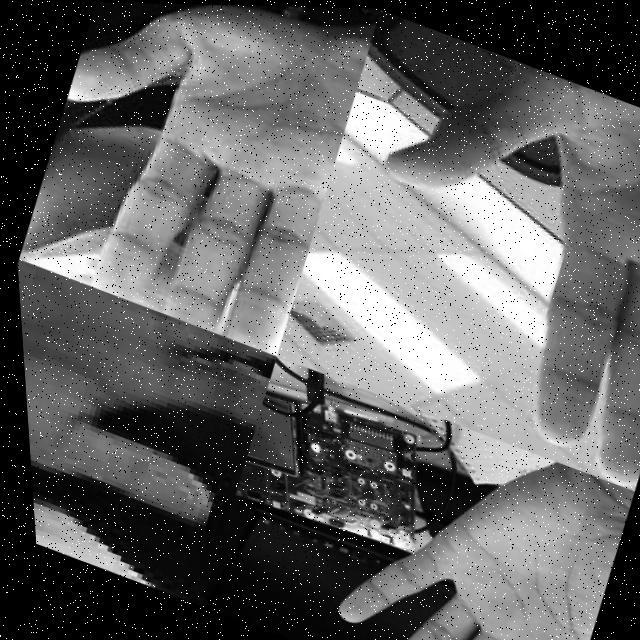no-gloves: (284, 17, 640, 489), (1, 0, 388, 357), (294, 402, 634, 640), (13, 259, 282, 542)
